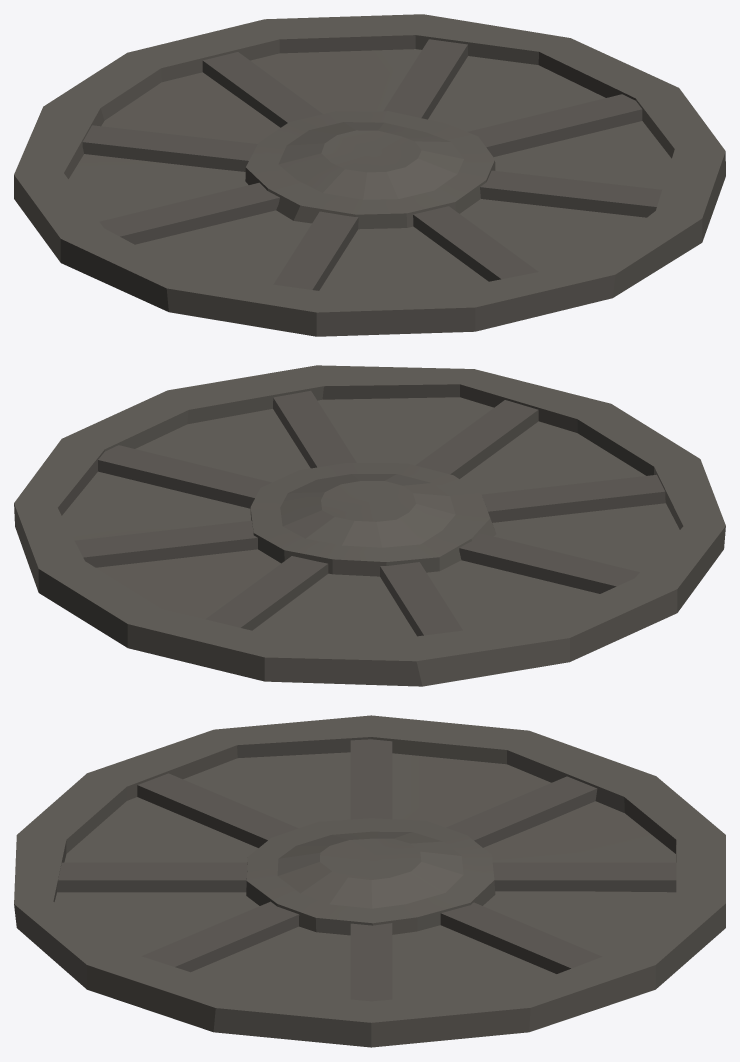
File: SM_Prop_Manhole_01_1183.obj
The picture shows the model from 3 angles, top to bottom: view 1: azimuth 30°, elevation 25°; view 2: azimuth 150°, elevation 25°; view 3: azimuth 270°, elevation 25°; orthographic projection. The views are drawn at different scales.
Parts seen in each view (by area): view 1: SM_Prop_Manhole_01_0; view 2: SM_Prop_Manhole_01_0; view 3: SM_Prop_Manhole_01_0.
Part boxes in pixels (<box>): SM_Prop_Manhole_01_0: <box>14,14,725,336</box>; SM_Prop_Manhole_01_0: <box>14,365,725,686</box>; SM_Prop_Manhole_01_0: <box>14,715,725,1047</box>.
Size of the model in its own units: 1.02 by 0.0583 by 0.9951.
1 material, 1 textured.
